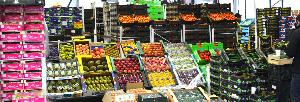apple: (141, 43, 165, 55)
bell_pepper: (196, 50, 212, 62)
grape: (176, 69, 206, 85), (170, 54, 194, 70), (166, 44, 190, 54)
kiwi: (105, 45, 119, 59)
lemon: (146, 71, 176, 87)
peach: (112, 57, 144, 71), (142, 56, 170, 70)
pear: (84, 74, 114, 94), (60, 42, 74, 60)
pineapple: (45, 78, 81, 96)
plum: (116, 74, 146, 90), (46, 44, 58, 60)
pomegranate: (74, 40, 90, 58), (91, 44, 105, 58)
zucchini: (225, 49, 244, 60), (251, 59, 269, 70), (245, 50, 262, 58), (262, 50, 275, 58)
